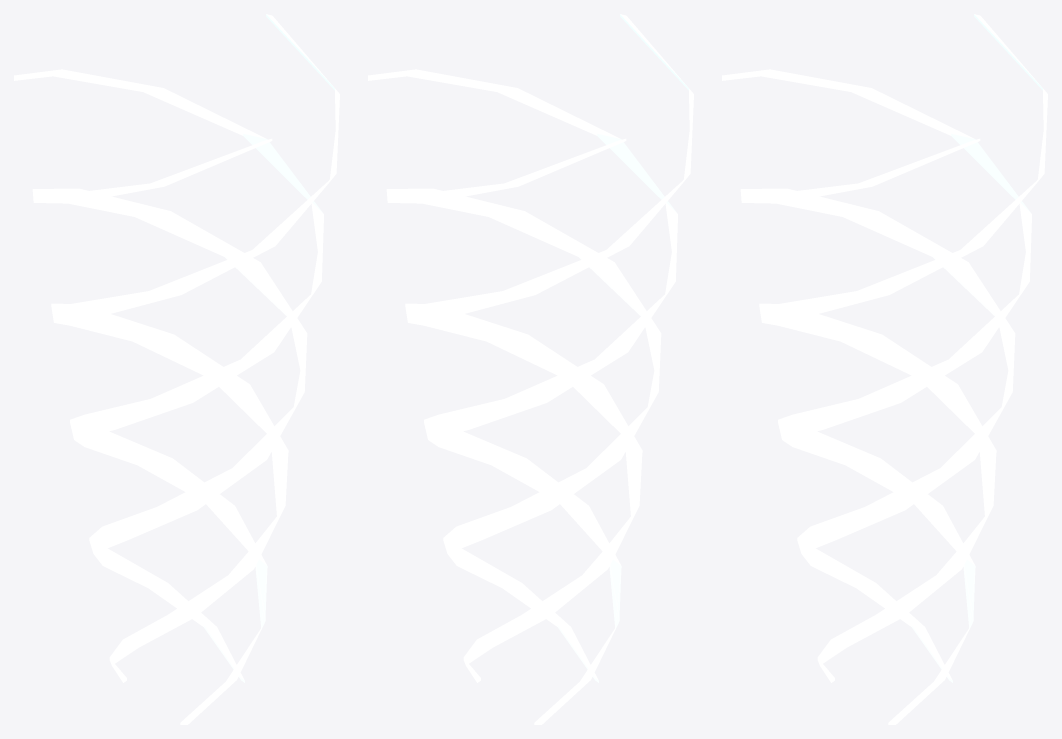
The model's file is SM_Env_UpdraftColumn_HQ.glb.
3 renders of one model, left to right at view 1: azimuth 30°, elevation 25°; view 2: azimuth 150°, elevation 25°; view 3: azimuth 270°, elevation 25°, orthographic.
Parts seen in each view (by area): view 1: SM_Env_UpdraftColumn_HQ; view 2: SM_Env_UpdraftColumn_HQ; view 3: SM_Env_UpdraftColumn_HQ.
Part boxes in pixels (x1,y1,x2,y2): SM_Env_UpdraftColumn_HQ: (14, 14, 339, 724); SM_Env_UpdraftColumn_HQ: (368, 14, 693, 724); SM_Env_UpdraftColumn_HQ: (722, 14, 1047, 724).
Bounding box in the file's own units: 18.76 × 40.15 × 19.16.
Materials: 1 (1 with a texture image).
